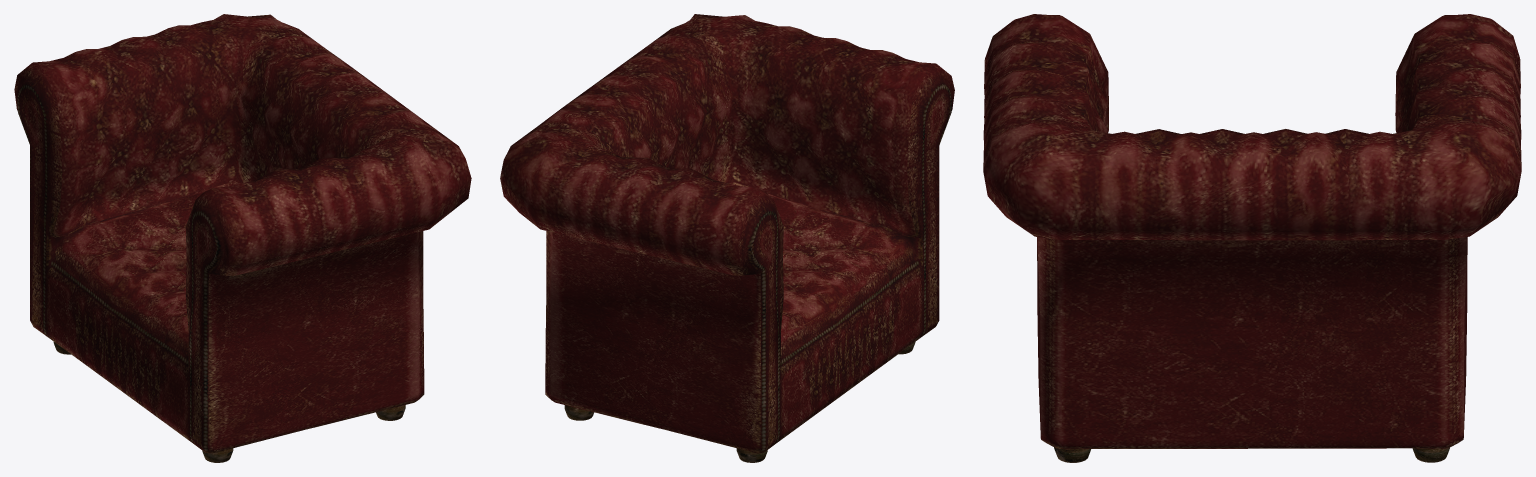
File: SM_ChesterfieldChair.FBX
The picture shows the model from 3 angles, left to right: view 1: azimuth 30°, elevation 25°; view 2: azimuth 150°, elevation 25°; view 3: azimuth 270°, elevation 25°; orthographic projection. The views are drawn at different scales.
Visible parts, largest first — view 1: SM_ChesterfieldChair_LOD0; view 2: SM_ChesterfieldChair_LOD0; view 3: SM_ChesterfieldChair_LOD0.
Boxes of the visible parts, <box> form: SM_ChesterfieldChair_LOD0: <box>14,14,471,462</box>; SM_ChesterfieldChair_LOD0: <box>500,14,954,462</box>; SM_ChesterfieldChair_LOD0: <box>983,14,1521,462</box>.
Size of what is drawn, in the model's own units: 108 by 107 by 155.
